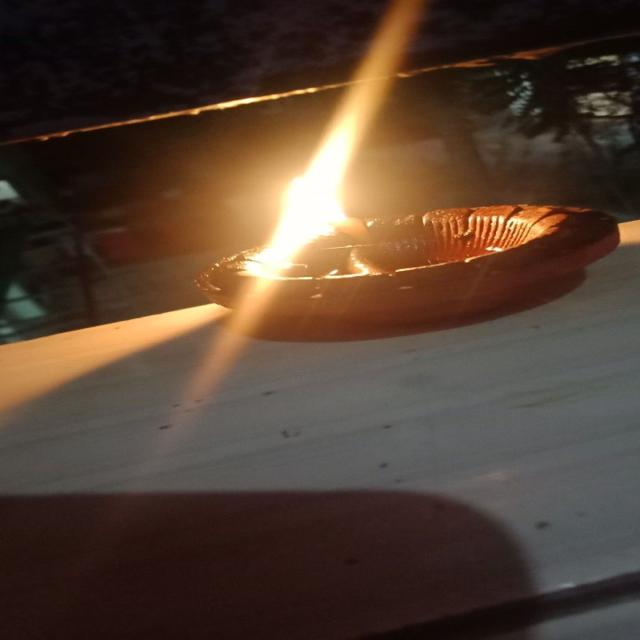fire: (251, 114, 359, 273)
